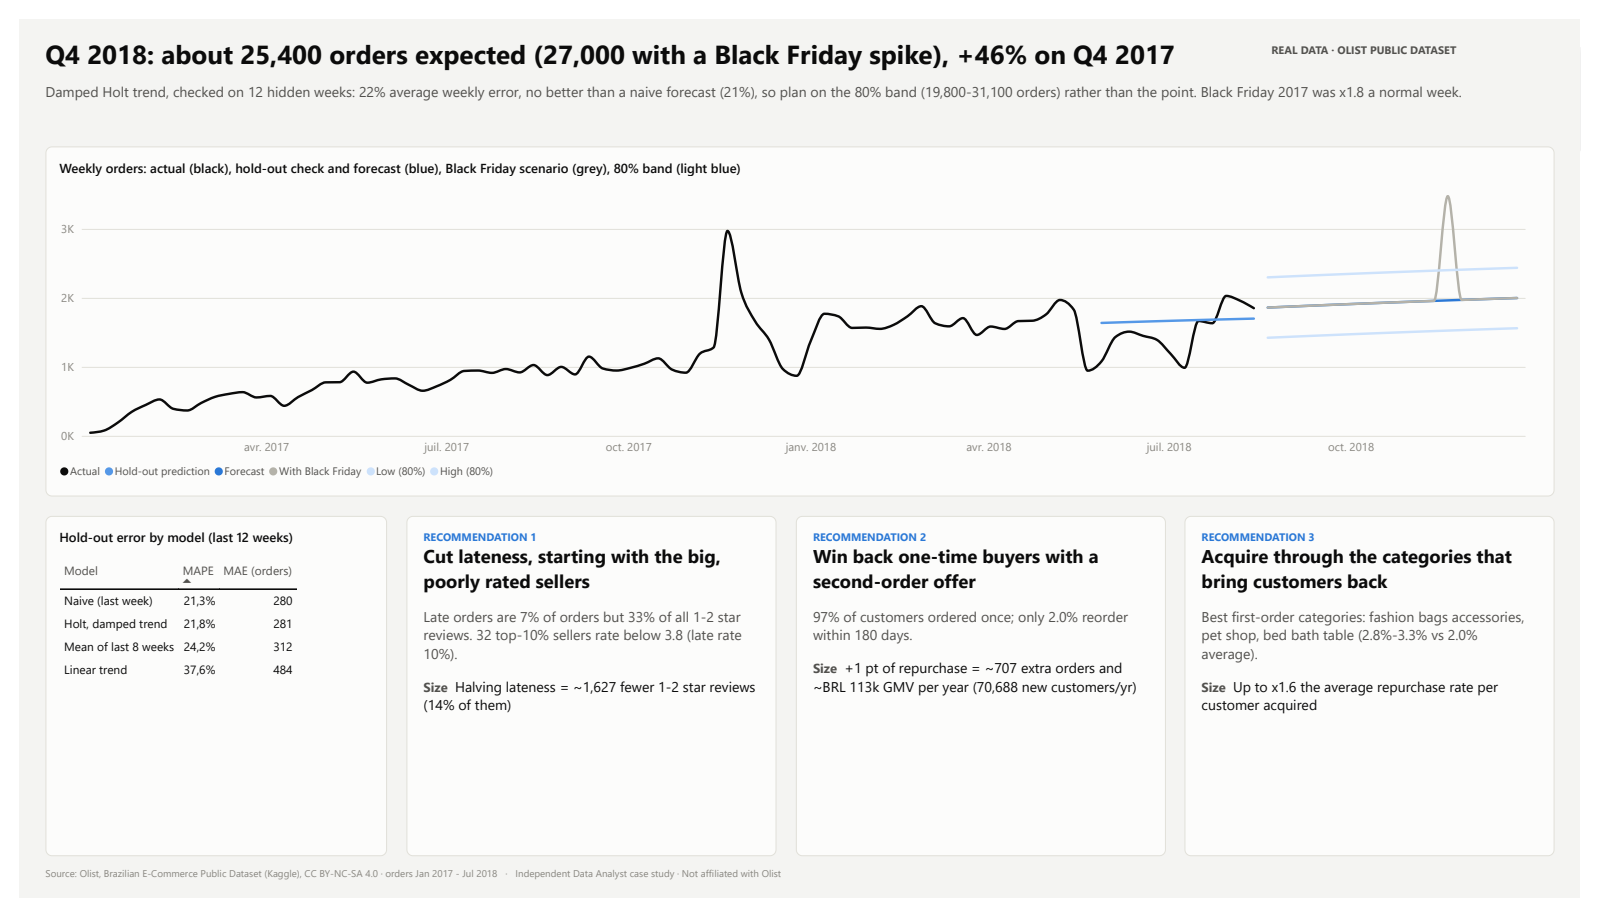

The dashboard page shown, as its layout file describes it:
{"tool":"powerbi","page":{"name":"5 · Forecast & recommendations","canvas":[1920,1080],"ordinal":5},"visuals":[{"type":"textbox","box":[32,20,1500,56],"z":1000},{"type":"textbox","box":[1540,28,348,40],"z":2000},{"type":"textbox","box":[32,76,1856,64],"z":3000},{"type":"lineChart","title":"Weekly orders: actual (black), hold-out check and forecast (blue), Black Friday scenario (grey), 80% band (light blue)","fields":{"Category":["Forecast Weekly.week"],"Y":["_Measures.Weekly Orders","_Measures.Hold-out Prediction","_Measures.Forecast Orders","_Measures.Forecast with Black Friday","_Measures.Forecast Low (80%)","_Measures.Forecast High (80%)"]},"box":[32,156,1856,430],"z":4000},{"type":"tableEx","title":"Hold-out error by model (last 12 weeks)","fields":{"Values":["Forecast Models.model","Min(Forecast Models.mape)","Min(Forecast Models.mae)"]},"box":[32,610,420,418],"z":5000},{"type":"textbox","box":[476,610,455,418],"z":6000},{"type":"textbox","box":[955,610,455,418],"z":7000},{"type":"textbox","box":[1433,610,455,418],"z":8000},{"type":"textbox","box":[32,1040,1856,32],"z":9000}]}

Visuals, with their boxes in screenshot pixels (x1, y1, x2, y2), scaled from the page's 1920x1080 canvas onto the 1600x918 screenshot:
textbox: BBox(27, 17, 1277, 65)
textbox: BBox(1283, 24, 1573, 58)
textbox: BBox(27, 65, 1573, 119)
"Weekly orders: actual (black), hold-out check and forecast (blue), Black Friday scenario (grey), 80% band (light blue)" lineChart: BBox(27, 133, 1573, 498)
"Hold-out error by model (last 12 weeks)" tableEx: BBox(27, 518, 377, 874)
textbox: BBox(397, 518, 776, 874)
textbox: BBox(796, 518, 1175, 874)
textbox: BBox(1194, 518, 1573, 874)
textbox: BBox(27, 884, 1573, 911)
